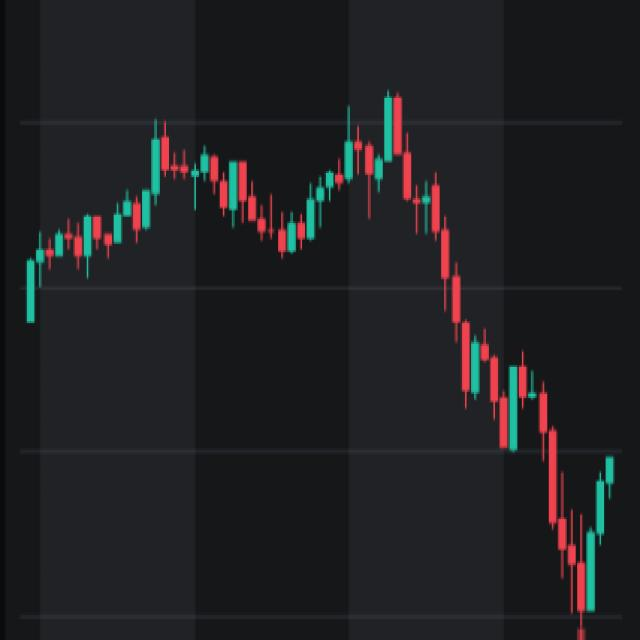Support-breakout: (298, 83, 511, 464)
